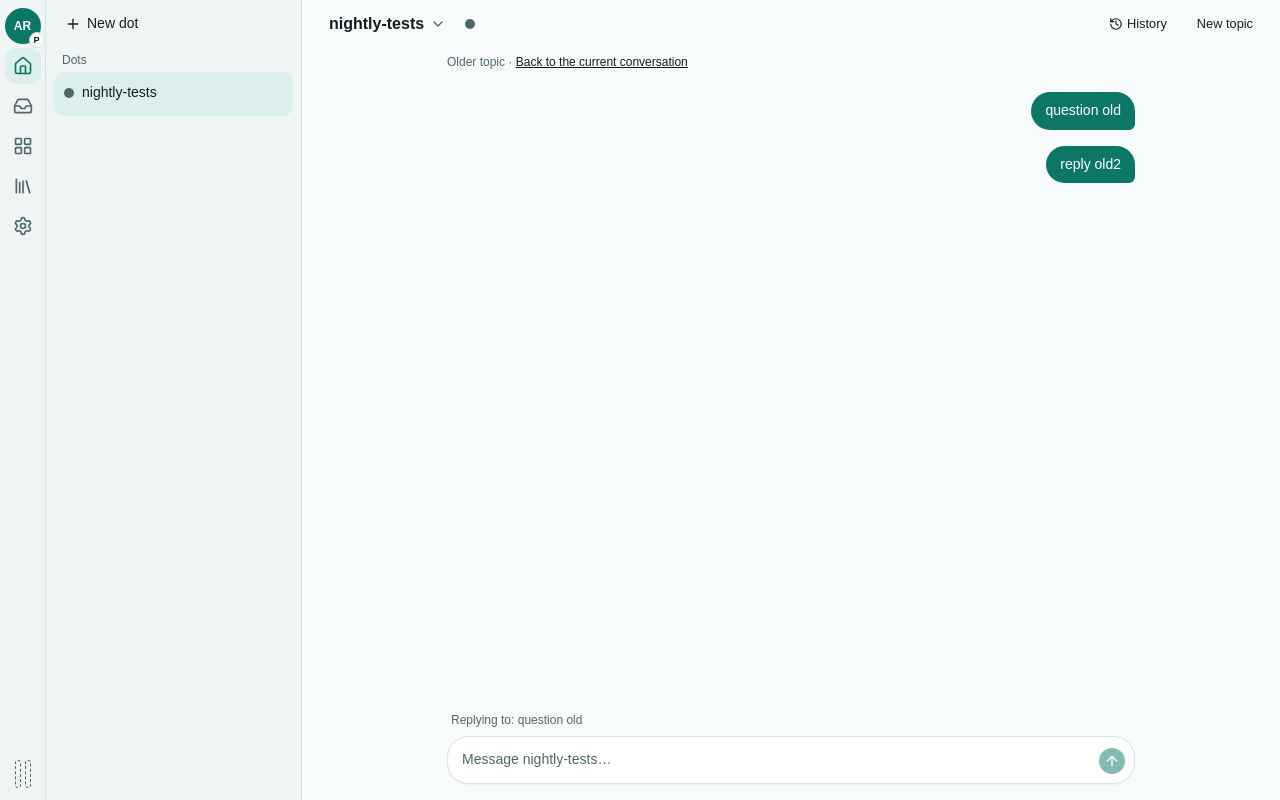
Scenario: a dot's conversation › shows an older topic alone, with the way back
This screenshot has width=1280, height=800.
Expected: the text "question old" is shown, [1032,92,1135,130]
Expected: the text "reply old2" is shown, [1046,146,1135,183]
Click the link "Back to the current conversation". click: point(602, 62)
box: [516,55,688,69]
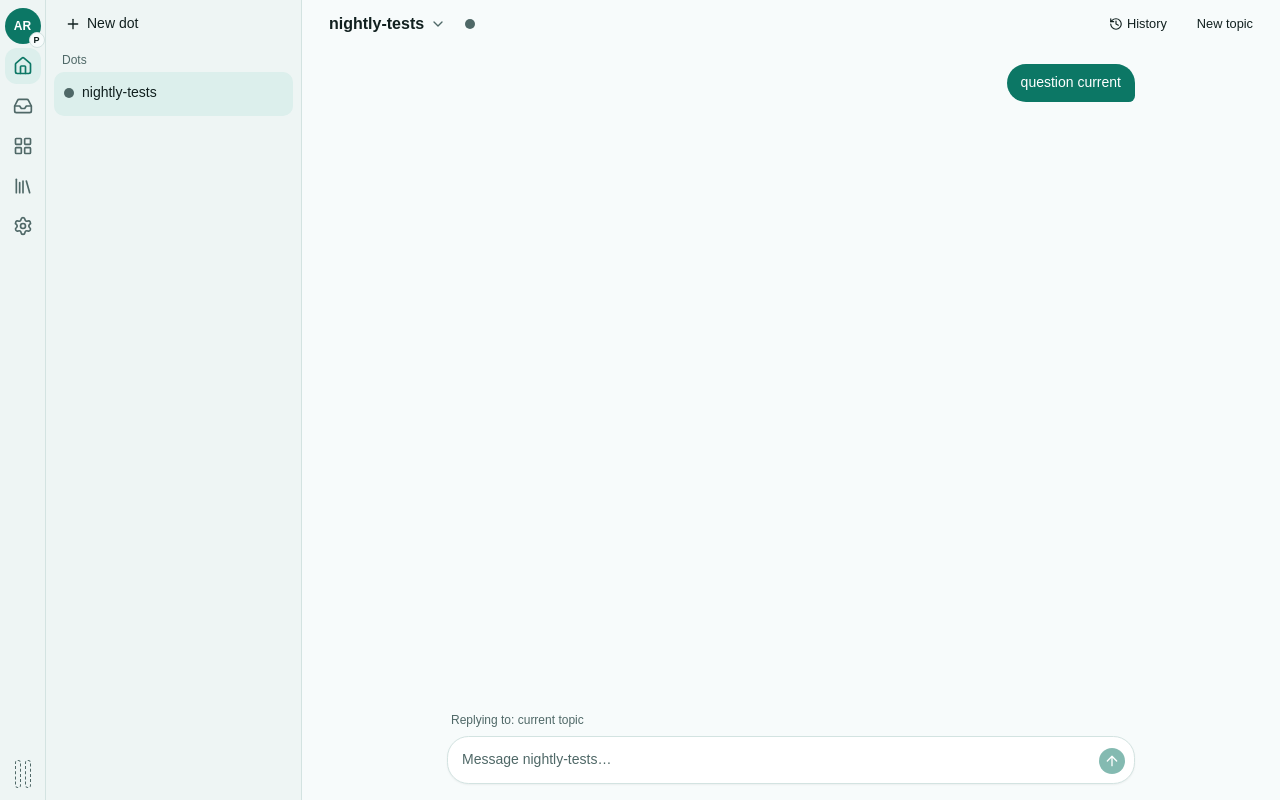
Expected: the text "question current" is shown, [1007,64,1135,102]
